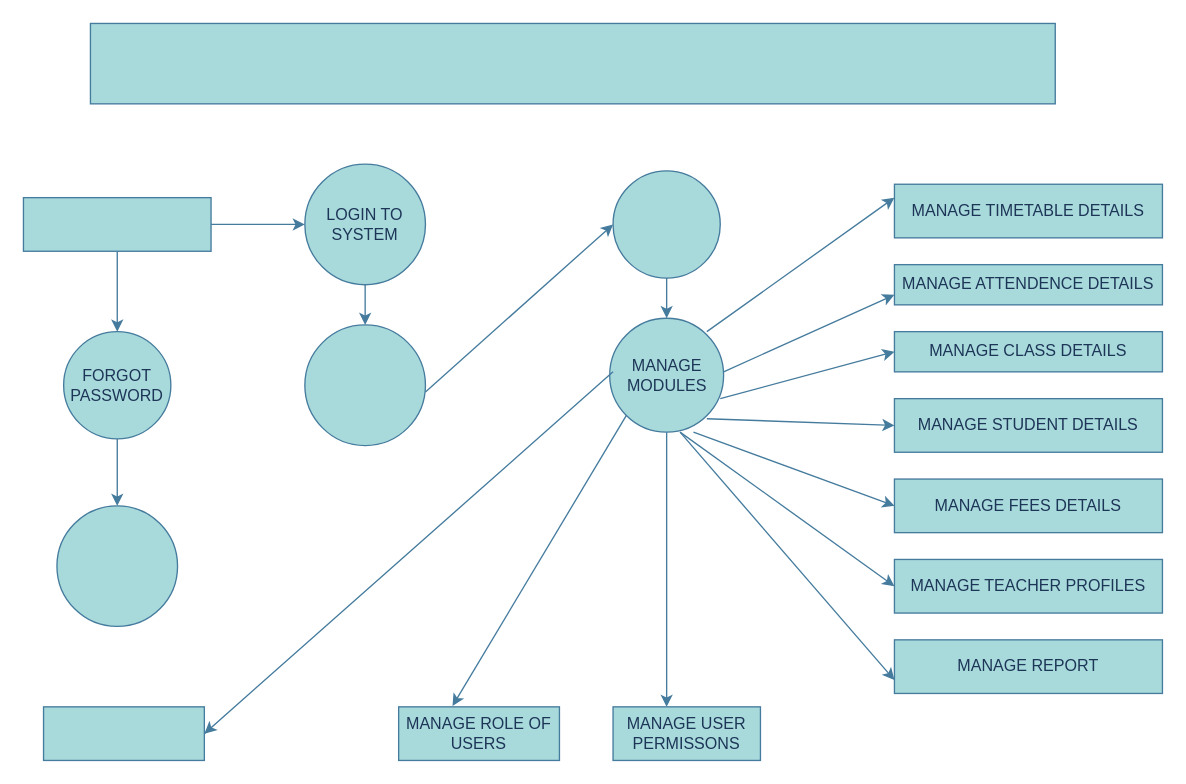
Some shapes in this 1186 by 784 pixel diagram are drawn without their labels. Each missing label, with the centre of its shape:
ADMIN: point 116,223
CHECK CREDENTIALS: point 364,385
CHECK ROLES OF ACCESS: point 666,224
MANAGE SYSTEM ADMINS: point 123,733
SEND EMAIL TO USERS: point 117,565
STUDENT INFORMATION SYSTEM: point 572,63
